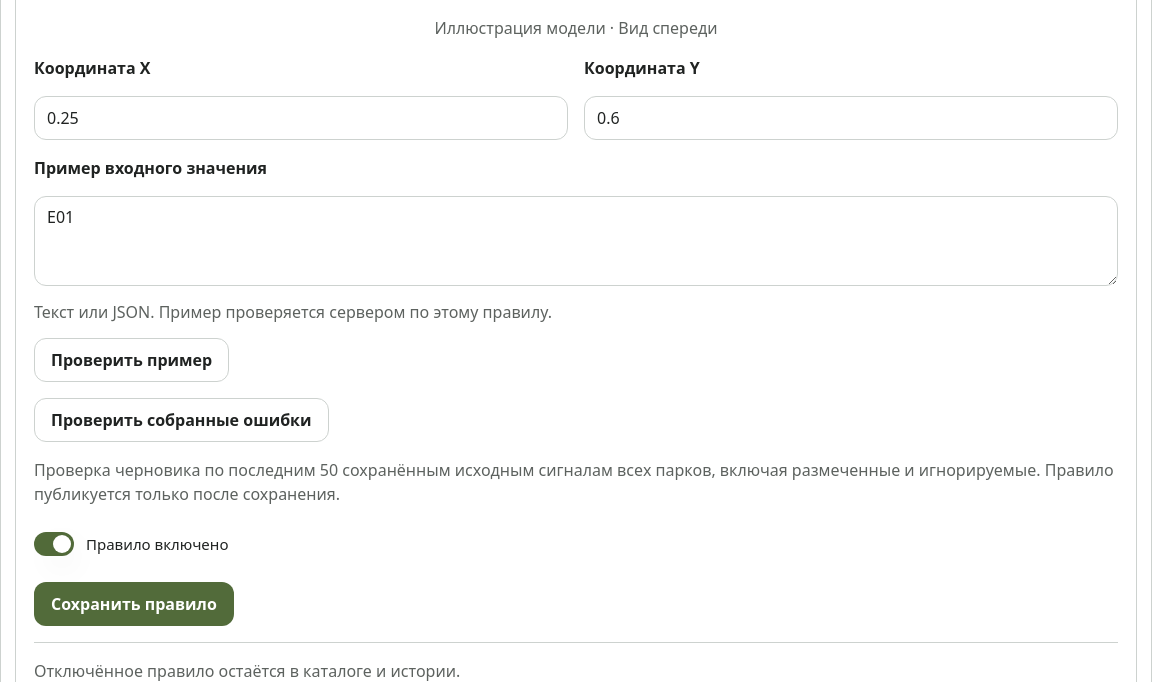
Test: shows the backend preview unknown without exposing validation input
(page scrolled)
Click the button "Проверить пример" at (132, 360), box [34, 338, 229, 382]
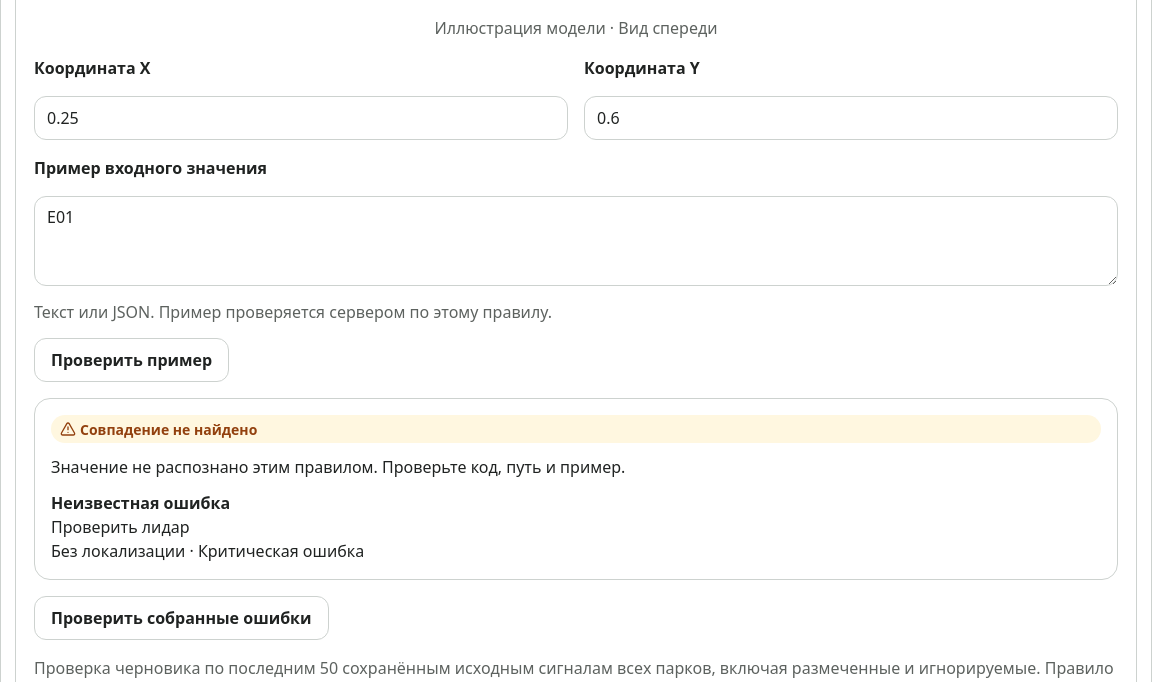
Expected: the text "Совпадение не найдено" is shown, [51, 415, 1101, 443]
